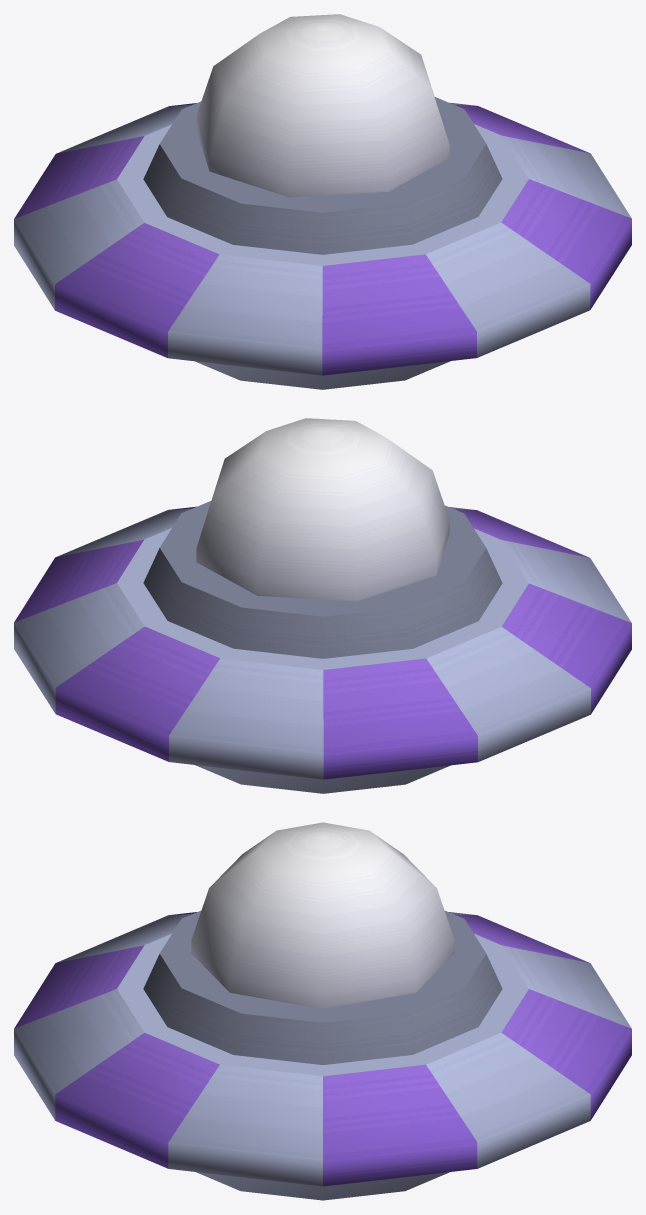
Rendered from tower-defense-kit--enemy-ufo-c.glb.
3 views of the same model, one above another, from view 1: azimuth 30°, elevation 25°; view 2: azimuth 150°, elevation 25°; view 3: azimuth 270°, elevation 25° (orthographic).
Parts seen in each view (by area): view 1: enemy-ufo-c; view 2: enemy-ufo-c; view 3: enemy-ufo-c.
Boxes of the visible parts, x1,y1,x2,y2 form: enemy-ufo-c: (14, 14, 631, 389); enemy-ufo-c: (14, 418, 631, 793); enemy-ufo-c: (14, 822, 631, 1200).
Bounding box in the file's own units: 1 × 0.5254 × 1.
1 material, 1 textured.
